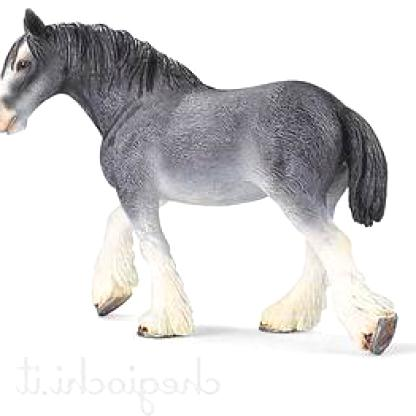horse: (2, 6, 397, 360)
